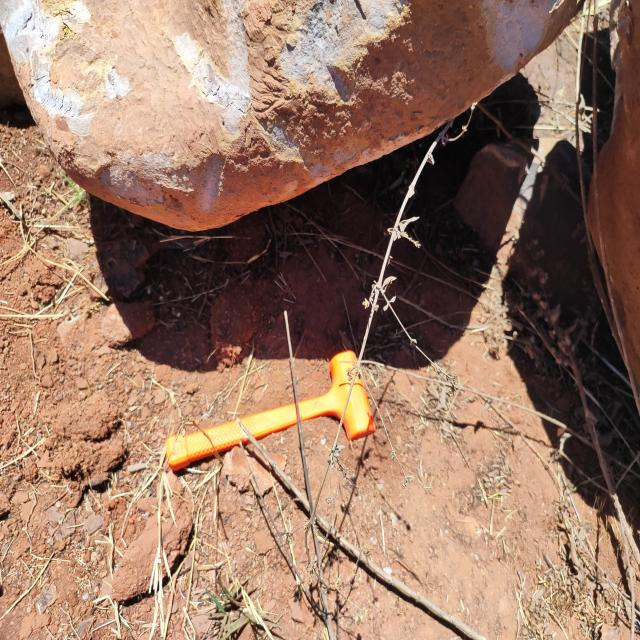Orange_hammer: (164, 349, 376, 472)
